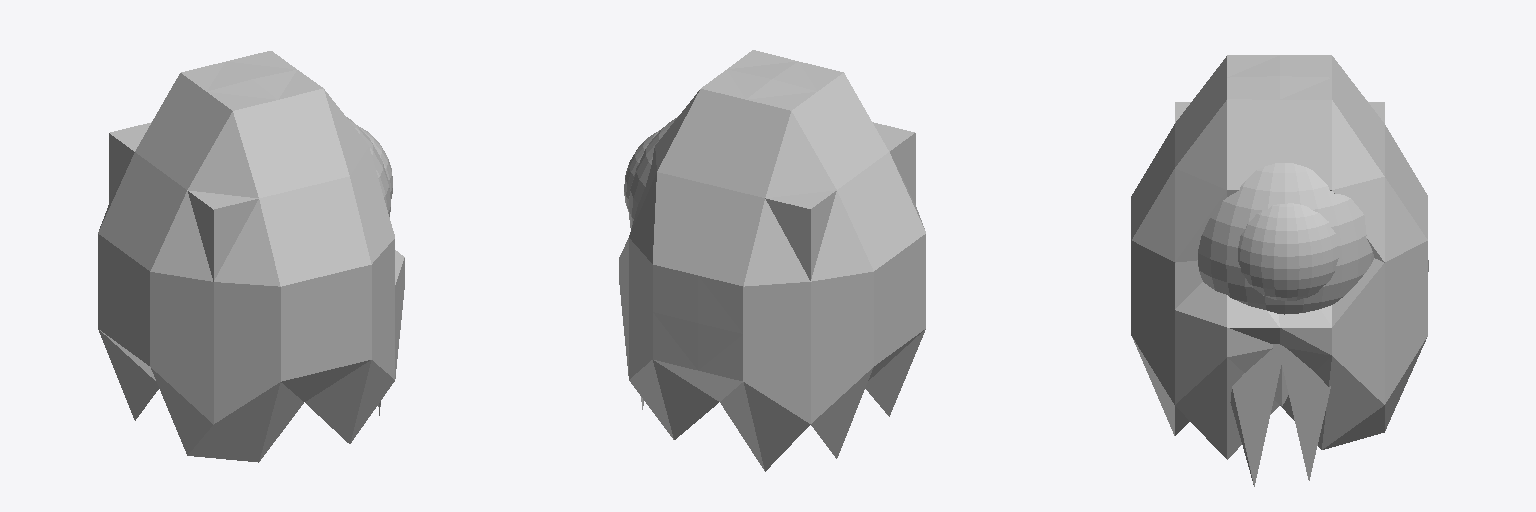
The model's file is enemy.obj.
3 views of the same model, side by side, from view 1: azimuth 30°, elevation 25°; view 2: azimuth 150°, elevation 25°; view 3: azimuth 270°, elevation 25° (orthographic).
Bounding box in the file's own units: 2.9 × 3.74 × 2.83.